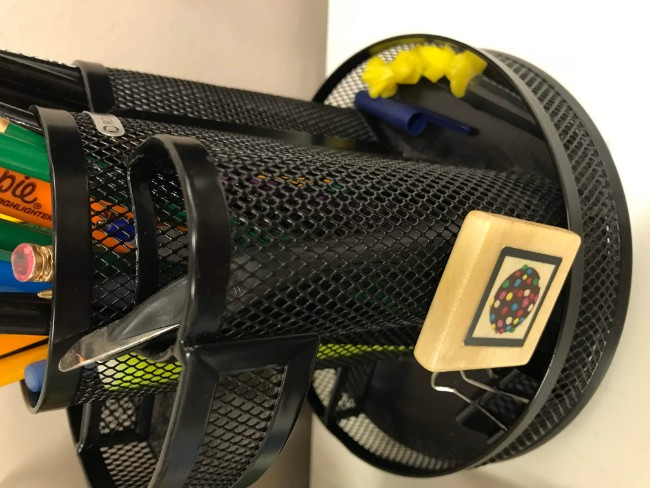cookie: (456, 238, 569, 356)
